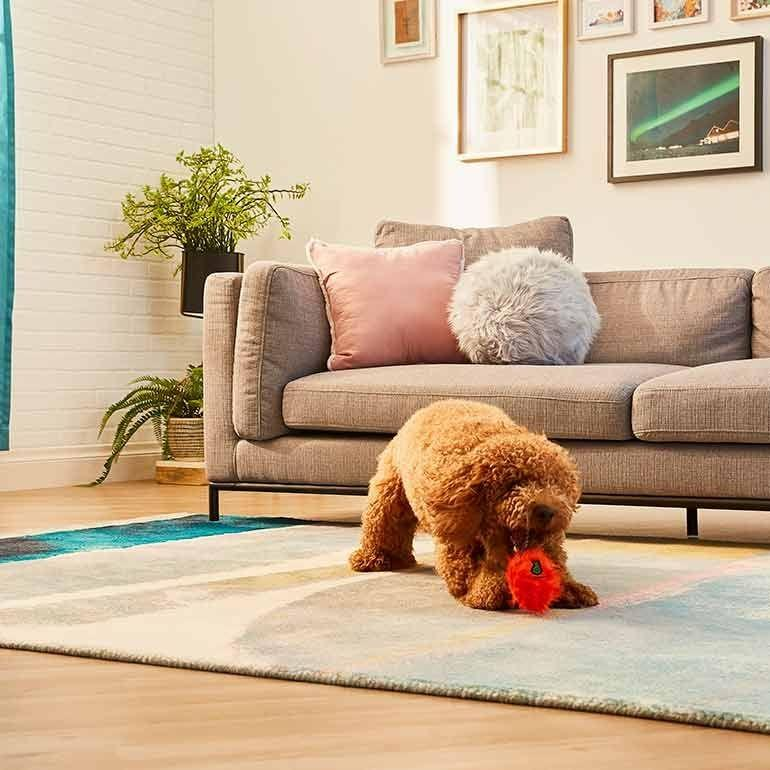adult_dog: (349, 397, 599, 612)
